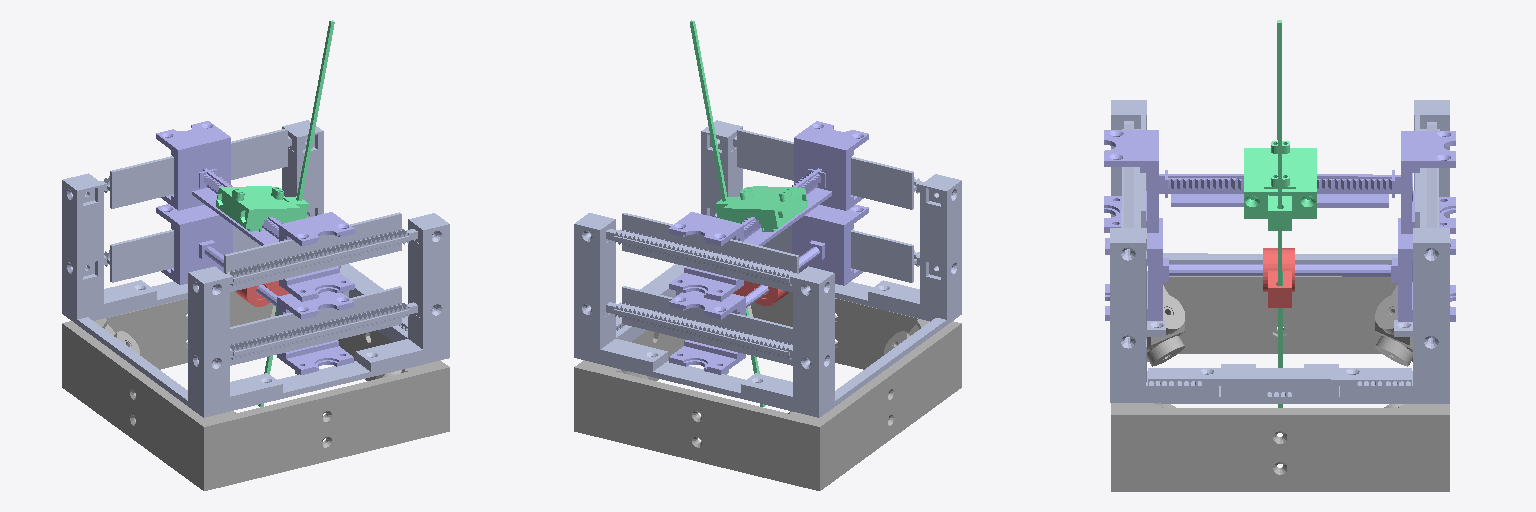
URDF robot description (robot_test):
<?xml version="1.0" ?>
<!-- Revolute-Revolute Manipulator -->
<robot name="robot_test" xmlns:xacro="http://www.ros.org/wiki/xacro">
    <link name="world" />
    <link name="base_link">

<inertial>
            <origin xyz="0 0 0.0175" rpy="0 0 0" />
            <mass value="0.168" />
            <inertia ixx="0.0005" ixy="0" ixz="0" iyy="0.00049" iyz="0" izz="0.00097" />
        </inertial>
        <visual>
          <origin xyz="0.07 0.07 0" rpy="1.5708 0 0" />
          <geometry>
              <mesh filename="package://robot_test/meshes/base_linkc3.STL" />
          </geometry>
            <material name="">
                <color rgba="0.752941176470588 0.752941176470588 0.752941176470588 1" />
            </material>
        </visual>
        <collision>
          <origin xyz="0.07 0.07 0" rpy="1.5708 0 0" />
          <geometry>
              <mesh filename="package://robot_test/meshes/base_linkc3.STL" />
          </geometry>
        </collision>
    </link>
    <joint name="Joint0" type="fixed">
      <!--removethe origin if goes bad-->
        <origin xyz="0 0 0.1" rpy="0 0 0" />
        <parent link="world" />
        <child link="base_link" />
    </joint>
    <link name="Link1">

<inertial>
            <origin xyz="0 0.04 0" rpy="0 0 0" />
            <mass value="0.125076916309071" />
            <inertia ixx="0.000213301900832475" ixy="7.20042983445819E-14" ixz="1.93294951442505E-15" iyy="0.000241629980148854" iyz="-3.15911644980272E-07" izz="15.71772481619727E-05" />
        </inertial>

        <visual>
            <origin xyz="0 0 0" rpy="0 0 0" />
            <geometry>
                <mesh filename="package://robot_test/meshes/Link1.STL" />
            </geometry>
            <material name="">
                <color rgba="0.792156862745098 0.819607843137255 0.933333333333333 1" />
            </material>
        </visual>
        <collision>
          <origin xyz="0 0 0" rpy="0 0 0" />
          <geometry>
              <mesh filename="package://robot_test/meshes/Link1gb.STL" />
          </geometry>
        </collision>
    </link>
    <!--revolute  rpy="1.5708 0 -2.3561" -->
    <joint name="Joint1" type="revolute">
        <origin xyz="0 0 0.04" rpy="1.5708 0 4.71" />
        <parent link="base_link" />
        <child link="Link1" />
        <axis xyz="0 1 0" />
        <!--lower="-1.34" upper="1.34"-->
        <limit effort="3" velocity="5.0" lower="-1.34" upper="1.34" />
        <dynamics damping="0.7" />
    </joint>
    <link name="Link2">

<inertial>
            <origin xyz="0 0 0" rpy="0 0 0" />
            <mass value="0.0217880910599681" />
            <inertia ixx="0.000003227" ixy="0" ixz="0" iyy="0.00005049" iyz="0" izz="0.00005" />
        </inertial>

        <!-- 0 up forward -->
        <visual>
            <origin xyz="0 -0.0165 0.0207" rpy="-1.5708 1.5708 0" />
            <geometry>
                <mesh filename="package://robot_test/meshes/Link2.STL" />
            </geometry>
            <material name="">
                <color rgba="0.752941176470588 0.752941176470588 1 1" />
            </material>
        </visual>
        <collision>
            <origin xyz="0 -0.0165 0.0207" rpy="-1.5708 1.5708 0" />
            <geometry>
                <mesh filename="package://robot_test/meshes/Link2.STL" />
            </geometry>
        </collision>
    </link>
    <joint name="Joint2" type="prismatic">
        <origin xyz="0 0.068 0" rpy="0 3.14 0" />
        <parent link="Link1" />
        <child link="Link2" />
        <axis xyz="0 0 1" />
        <limit lower="-0.035" upper="0.035" effort="3" velocity="5.0" />
        <dynamics damping="0.7" />
    </joint>
    <link name="Fake">
      <inertial>
                  <origin xyz="0 0 0" rpy="0 0 0" />
                  <mass value="0.00687392728317165" />
                  <inertia ixx="4.68999634639831E-07" ixy="-6.61744490042422E-22" ixz="-1.20561574279604E-22" iyy="5.02478511000677E-07" iyz="1.21000404772896E-09" izz="8.02816429799795E-07" />
              </inertial>
      </link>
    <joint name="Joint2_3" type="revolute">
        <origin xyz="0 0 0" rpy="0.2 0 0" />
        <parent link="Link2" />
        <child link="Fake" />
        <axis xyz="1 0 0" />
        <limit effort="3" velocity="5.0" lower="-1.34" upper="1.34" />
        <dynamics damping="0.7" />
    </joint>
    <link name="Link3_1">

<inertial>
            <origin xyz="0 0.001 0" rpy="-1.5708 0 0" />
            <mass value="0.00687392728317165" />
            <inertia ixx="4.68999634639831E-07" ixy="-6.61744490042422E-22" ixz="-1.20561574279604E-22" iyy="5.02478511000677E-07" iyz="1.21000404772896E-09" izz="8.02816429799795E-07" />
        </inertial>

        <!-- 0 -0.001 forward -->
        <visual>
            <origin xyz="0 -0.007 0.02055" rpy="-1.5708 0 0" />
            <geometry>
                <mesh filename="package://robot_test/meshes/Link3_1.STL" />
            </geometry>
            <material name="">
                <color rgba="0.529411764705882 1 0.752941176470588 1" />
            </material>
        </visual>
        <collision>
            <origin xyz="0 0 0.02" rpy="-1.5708 0 0" />
            <geometry>
                <mesh filename="package://robot_test/meshes/Link3_1.STL" />
            </geometry>
        </collision>
    </link>
    <joint name="Joint3_1" type="prismatic">
        <origin xyz="0 0 0" rpy="0 0 0" />
        <parent link="Fake" />
        <child link="Link3_1" />
        <axis xyz="1 0 0" />
        <limit lower="-0.03125" upper="0.03125" effort="3" velocity="5.0" />
        <dynamics damping="0.7" />
    </joint>

    <link name="Link4">
        <inertial>
            <origin xyz="0 0 0" rpy="0 0 0" />
            <mass value="0.000687392728317165" />
            <inertia ixx="0.0000002527" ixy="0" ixz="0" iyy="0.0000002527" iyz="0" izz="0.072816429799795E-07" />
        </inertial>
        <visual>
            <origin xyz="0 0 0" rpy="0 0 0" />
            <geometry>
              <!--0.15 -->
                <box size="0.002 0.002 0.2" />
            </geometry>
            <material name="">
                <color rgba="0.529411764705882 1 0.752941176470588 1" />
            </material>
        </visual>
        <collision>
            <origin xyz="0 0 0" rpy="0 0 0" />
            <geometry>
                <box size="0.002 0.002 0.2" />
            </geometry>
        </collision>
    </link>
    <joint name="Joint4" type="prismatic">
      <!--0.02 -->
        <origin xyz="0 0 0.024" rpy="1.57 0 0" />
        <parent link="Link3_1" />
        <child link="Link4" />
        <axis xyz="0 0 1 " />
        <!---0.03125 +0.03125 -->
        <limit lower="-0.03125" upper="0.05" effort="3" velocity="5.0" />
        <dynamics damping="0.7"/>
    </joint>
    <link name="Fake5"/>
    <joint name="Joint_ee1" type="fixed">
      <!-- 0.075-->
        <origin xyz="0 0 0.105" rpy="0 0 0" />
        <parent link="Link4" />
        <child link="Fake5" />
        <dynamics damping="0.7"/>
    </joint>


    <link name="Link2_2">
      <inertial>
            <origin xyz="0 0 0" rpy="0 0 0" />
            <mass value="0.0198869983841949" />
            <inertia ixx="0.000003227" ixy="0" ixz="0" iyy="0.00005049" iyz="0" izz="0.00005" />
        </inertial>

        <!-- 0 up forward -->
        <visual>
            <origin xyz="0 0.0165 -0.0135" rpy="-1.5708 1.5708 0" />
            <geometry>
                <mesh filename="package://robot_test/meshes/Link2_2.STL" />
            </geometry>
            <material name="">
                <color rgba="0.752941176470588 0.752941176470588 1 1" />
            </material>
        </visual>
        <collision>
            <origin xyz="0 0.015 -0.013" rpy="-1.5708 1.5708 0" />
            <geometry>
                <mesh filename="package://robot_test/meshes/Link2_2.STL" />
            </geometry>
        </collision>
    </link>
    <joint name="Joint2_2" type="prismatic">
        <origin xyz="0 0.028 0" rpy="0 3.14 0" />
        <parent link="Link1" />
        <child link="Link2_2" />
        <axis xyz="0 0 1" />
        <limit lower="-0.035" upper="0.035" effort="3" velocity="5.0" />
        <dynamics damping="0.7" />
    </joint>
    <link name="Fake2">
      <inertial>
                  <origin xyz="0 0 0" rpy="0 0 0" />
                  <mass value="0.00687392728317165" />
                  <inertia ixx="-1.20561574279604E-22"
              ixy="-6.61744490042422E-22"
              ixz="-1.20561574279604E-22"
              iyy="-1.20561574279604E-22"
              iyz="-1.20561574279604E-22"
              izz="-1.20561574279604E-22" />
              </inertial>
      </link>
    <joint name="Joint5" type="revolute">
        <origin xyz="0 0 0" rpy="0.2 0 0" />
        <parent link="Link2_2" />
        <child link="Fake2" />
        <axis xyz="1 0 0" />
        <limit effort="3" velocity="5.0" lower="-1.34" upper="1.34" />
        <dynamics damping="0.7" />
    </joint>
    <link name="Link3_2">

      <inertial>
            <origin xyz="0 0 0" rpy="0 -1.5708 -1.5708" />
            <mass value="0.00392509494863912" />
            <inertia ixx="1.22511067255343E-07" ixy="-3.59085107182492E-09" ixz="1.01277926249461E-22" iyy="2.33144279565317E-07" iyz="-1.75258892284673E-23" izz="2.06480464452128E-07" />
        </inertial>

        <visual>
            <!--0 up forward-->
            <origin xyz="0 0.009 0.0125" rpy="0 -1.5708 -1.5708" />
            <geometry>
                <mesh filename="package://robot_test/meshes/Link3_2.STL" />
            </geometry>
            <material name="">
                <color rgba="1 0.501960784313725 0.501960784313725 1" />
            </material>
        </visual>
        <collision>
            <origin xyz="0 0.008 0.015" rpy="0 -1.5708 -1.5708" />
            <geometry>
                <mesh filename="package://robot_test/meshes/Link3_2.STL" />
            </geometry>
        </collision>
    </link>
    <joint name="Joint3_2" type="prismatic">
        <origin xyz="0 0 0" rpy="0 0 0" />
        <parent link="Fake2" />
        <child link="Link3_2" />
        <axis xyz="1 0 0" />
        <limit lower="-0.03125" upper="0.03125" effort="3" velocity="5.0" />
        <dynamics damping="0.7" />
    </joint>

    <link name="Link4_2">
      <inertial>
            <origin xyz="0 0 0" rpy="0 0 0" />
            <mass value="0.000687392728317165" />
            <inertia ixx="0.0000002527" ixy="0" ixz="0" iyy="0.0000002527" iyz="0" izz="0.072816429799795E-07" />
        </inertial>

        <visual>
            <origin xyz="0 0 0" rpy="0 0 0" />
            <geometry>
                <box size="0.002 0.002 0.13" />
            </geometry>
            <material name="">
                <color rgba="0.529411764705882 1 0.752941176470588 1" />
            </material>
        </visual>
        <collision>
            <origin xyz="0 0 0" rpy="0 0 0" />
            <geometry>
                <box size="0.002 0.002 0.13" />
            </geometry>
        </collision>
    </link>
    <joint name="Joint4_2" type="prismatic">
        <origin xyz="0 0 0.016" rpy="1.57 0 0" />
        <parent link="Link3_2" />
        <child link="Link4_2" />
        <axis xyz="0 0 1 " />
        <!-- lower="-0.03125" upper="0.01"  -->
        <limit lower="-0.05" upper="0.05" effort="3" velocity="5.0" />
        <dynamics damping="0.7"/>
    </joint>
    <link name="Fake4" />
    <joint name="Joint_ee" type="fixed">
      <!--<origin xyz="0 0 0.05" rpy="0 0 0"" />-->
        <origin xyz="0 0 0.08" rpy="0 0 0" />
        <parent link="Link4_2" />
        <child link="Fake4" />
    </joint>

<transmission name="trans_Joint1">
        <type>transmission_interface/SimpleTransmission</type>
        <joint name="Joint1">
            <hardwareInterface>hardware_interface/PositionJointInterface</hardwareInterface>
        </joint>
        <actuator name="Joint1_motor">
            <hardwareInterface>hardware_interface/PositionJointInterface</hardwareInterface>
            <mechanicalReduction>1</mechanicalReduction>
        </actuator>
    </transmission>
    <transmission name="trans_Joint2">
        <type>transmission_interface/SimpleTransmission</type>
        <joint name="Joint2">
            <hardwareInterface>hardware_interface/PositionJointInterface</hardwareInterface>
        </joint>
        <actuator name="Joint2_motor">
            <hardwareInterface>hardware_interface/PositionJointInterface</hardwareInterface>
            <mechanicalReduction>1</mechanicalReduction>
        </actuator>
    </transmission>
    <transmission name="trans_Joint2_3">
        <type>transmission_interface/SimpleTransmission</type>
        <joint name="Joint2_3">
            <hardwareInterface>hardware_interface/PositionJointInterface</hardwareInterface>
        </joint>
        <actuator name="Joint2_3_motor">
            <hardwareInterface>hardware_interface/PositionJointInterface</hardwareInterface>
            <mechanicalReduction>1</mechanicalReduction>
        </actuator>
    </transmission>
    <transmission name="trans_Joint3_1">
        <type>transmission_interface/SimpleTransmission</type>
        <joint name="Joint3_1">
            <hardwareInterface>hardware_interface/PositionJointInterface</hardwareInterface>
        </joint>
        <actuator name="Joint3_1_motor">
            <hardwareInterface>hardware_interface/PositionJointInterface</hardwareInterface>
            <mechanicalReduction>1</mechanicalReduction>
        </actuator>
    </transmission>
    <transmission name="trans_Joint4">
        <type>transmission_interface/SimpleTransmission</type>
        <joint name="Joint4">
            <hardwareInterface>hardware_interface/PositionJointInterface</hardwareInterface>
        </joint>
        <actuator name="Joint4_motor">
            <hardwareInterface>hardware_interface/PositionJointInterface</hardwareInterface>
            <mechanicalReduction>1</mechanicalReduction>
        </actuator>
    </transmission>
    <transmission name="trans_Joint2_2">
        <type>transmission_interface/SimpleTransmission</type>
        <joint name="Joint2_2">
            <hardwareInterface>hardware_interface/PositionJointInterface</hardwareInterface>
        </joint>
        <actuator name="Joint2_2_motor">
            <hardwareInterface>hardware_interface/PositionJointInterface</hardwareInterface>
            <mechanicalReduction>1</mechanicalReduction>
        </actuator>
    </transmission>
    <transmission name="trans_Joint5">
        <type>transmission_interface/SimpleTransmission</type>
        <joint name="Joint5">
            <hardwareInterface>hardware_interface/PositionJointInterface</hardwareInterface>
        </joint>
        <actuator name="Joint5_motor">
            <hardwareInterface>hardware_interface/PositionJointInterface</hardwareInterface>
            <mechanicalReduction>1</mechanicalReduction>
        </actuator>
    </transmission>
    <transmission name="trans_Joint3_2">
        <type>transmission_interface/SimpleTransmission</type>
        <joint name="Joint3_2">
            <hardwareInterface>hardware_interface/PositionJointInterface</hardwareInterface>
        </joint>
        <actuator name="Joint3_2_motor">
            <hardwareInterface>hardware_interface/PositionJointInterface</hardwareInterface>
            <mechanicalReduction>1</mechanicalReduction>
        </actuator>
    </transmission>
    <transmission name="trans_Joint4_2">
        <type>transmission_interface/SimpleTransmission</type>
        <joint name="Joint4_2">
            <hardwareInterface>hardware_interface/PositionJointInterface</hardwareInterface>
        </joint>
        <actuator name="Joint4_2_motor">
            <hardwareInterface>hardware_interface/PositionJointInterface</hardwareInterface>
            <mechanicalReduction>1</mechanicalReduction>
        </actuator>
    </transmission>

    <!--
    <transmission name="trans_Joint1">
            <type>transmission_interface/SimpleTransmission</type>
            <joint name="Joint1">
                <hardwareInterface>hardware_interface/VelocityJointInterface</hardwareInterface>
            </joint>
            <actuator name="Joint1_motor">
                <hardwareInterface>hardware_interface/VelocityJointInterface</hardwareInterface>
                <mechanicalReduction>1</mechanicalReduction>
            </actuator>
        </transmission>
        <transmission name="trans_Joint2">
            <type>transmission_interface/SimpleTransmission</type>
            <joint name="Joint2">
                <hardwareInterface>hardware_interface/VelocityJointInterface</hardwareInterface>
            </joint>
            <actuator name="Joint2_motor">
                <hardwareInterface>hardware_interface/VelocityJointInterface</hardwareInterface>
                <mechanicalReduction>1</mechanicalReduction>
            </actuator>
        </transmission>
        <transmission name="trans_Joint2_3">
            <type>transmission_interface/SimpleTransmission</type>
            <joint name="Joint2_3">
                <hardwareInterface>hardware_interface/VelocityJointInterface</hardwareInterface>
            </joint>
            <actuator name="Joint2_3_motor">
                <hardwareInterface>hardware_interface/VelocityJointInterface</hardwareInterface>
                <mechanicalReduction>1</mechanicalReduction>
            </actuator>
        </transmission>
        <transmission name="trans_Joint3_1">
            <type>transmission_interface/SimpleTransmission</type>
            <joint name="Joint3_1">
                <hardwareInterface>hardware_interface/VelocityJointInterface</hardwareInterface>
            </joint>
            <actuator name="Joint3_1_motor">
                <hardwareInterface>hardware_interface/VelocityJointInterface</hardwareInterface>
                <mechanicalReduction>1</mechanicalReduction>
            </actuator>
        </transmission>
        <transmission name="trans_Joint4">
            <type>transmission_interface/SimpleTransmission</type>
            <joint name="Joint4">
                <hardwareInterface>hardware_interface/VelocityJointInterface</hardwareInterface>
            </joint>
            <actuator name="Joint4_motor">
                <hardwareInterface>hardware_interface/VelocityJointInterface</hardwareInterface>
                <mechanicalReduction>1</mechanicalReduction>
            </actuator>
        </transmission>
        <transmission name="trans_Joint2_2">
            <type>transmission_interface/SimpleTransmission</type>
            <joint name="Joint2_2">
                <hardwareInterface>hardware_interface/VelocityJointInterface</hardwareInterface>
            </joint>
            <actuator name="Joint2_2_motor">
                <hardwareInterface>hardware_interface/VelocityJointInterface</hardwareInterface>
                <mechanicalReduction>1</mechanicalReduction>
            </actuator>
        </transmission>
        <transmission name="trans_Joint5">
            <type>transmission_interface/SimpleTransmission</type>
            <joint name="Joint5">
                <hardwareInterface>hardware_interface/VelocityJointInterface</hardwareInterface>
            </joint>
            <actuator name="Joint5_motor">
                <hardwareInterface>hardware_interface/VelocityJointInterface</hardwareInterface>
                <mechanicalReduction>1</mechanicalReduction>
            </actuator>
        </transmission>
        <transmission name="trans_Joint3_2">
            <type>transmission_interface/SimpleTransmission</type>
            <joint name="Joint3_2">
                <hardwareInterface>hardware_interface/VelocityJointInterface</hardwareInterface>
            </joint>
            <actuator name="Joint3_2_motor">
                <hardwareInterface>hardware_interface/VelocityJointInterface</hardwareInterface>
                <mechanicalReduction>1</mechanicalReduction>
            </actuator>
        </transmission>
        <transmission name="trans_Joint4_2">
            <type>transmission_interface/SimpleTransmission</type>
            <joint name="Joint4_2">
                <hardwareInterface>hardware_interface/VelocityJointInterface</hardwareInterface>
            </joint>
            <actuator name="Joint4_2_motor">
                <hardwareInterface>hardware_interface/VelocityJointInterface</hardwareInterface>
                <mechanicalReduction>1</mechanicalReduction>
            </actuator>
        </transmission>
    -->

    <gazebo>
      <plugin name="gazebo_ros_control" filename="libgazebo_ros_control.so">
        <robotNamespace>/robot_test</robotNamespace>
        <robotSimType>gazebo_ros_control/DefaultRobotHWSim</robotSimType>
      </plugin>
    </gazebo>

</robot>

--- Render facts (derived) ---
3 views of the same robot in one strip: view 1: azimuth 30°, elevation 25°; view 2: azimuth 150°, elevation 25°; view 3: azimuth 270°, elevation 25° (orthographic).
Model robot_test with 13 links and 12 joints (3 revolute, 6 prismatic, 3 fixed), rooted at world, posed all joints at 0.
Links seen in each view (by area): view 1: Link1, base_link, Link2, Link2_2, Link3_1, Link4, Link3_2; view 2: Link1, base_link, Link2, Link2_2, Link3_1, Link4, Link3_2; view 3: base_link, Link1, Link2, Link2_2, Link3_1, Link3_2, Link4.
Link boxes in pixels (bbox=[...]): Link1: bbox=[62, 120, 449, 417]; base_link: bbox=[62, 291, 449, 490]; Link2: bbox=[156, 121, 354, 301]; Link2_2: bbox=[156, 204, 353, 374]; Link3_1: bbox=[216, 186, 308, 231]; Link4: bbox=[267, 20, 334, 373]; Link3_2: bbox=[235, 281, 289, 306]; Link1: bbox=[574, 120, 961, 417]; base_link: bbox=[574, 292, 961, 490]; Link2: bbox=[669, 121, 868, 301]; Link2_2: bbox=[669, 204, 868, 374]; Link3_1: bbox=[715, 186, 807, 231]; Link4: bbox=[690, 20, 754, 372]; Link3_2: bbox=[733, 281, 788, 305]; base_link: bbox=[1111, 271, 1449, 491]; Link1: bbox=[1110, 100, 1449, 403]; Link2: bbox=[1104, 130, 1455, 233]; Link2_2: bbox=[1105, 218, 1455, 321]; Link3_1: bbox=[1244, 141, 1316, 230]; Link3_2: bbox=[1263, 248, 1294, 307]; Link4: bbox=[1277, 20, 1282, 407].
Size in the robot's own frame: 0.1403 by 0.1453 by 0.2015 metres.
Meshes: 6 distinct files referenced, 6 mesh visuals loaded (6 binary STL).